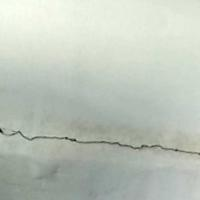crack: (0, 109, 199, 171)
